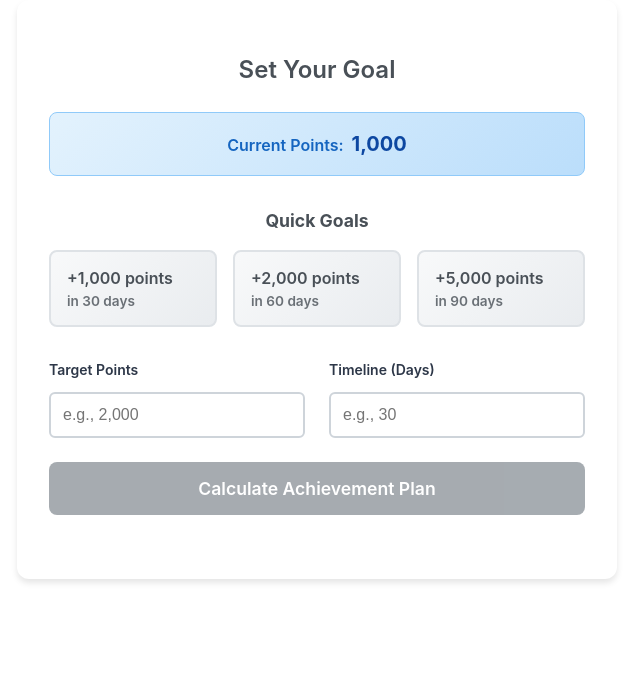
it: GoalCalculator Component › Button States › should enable submit button when both inputs have values
expect the button "Calculate Achievement Plan" is disabled: met, box [49,462,585,515]
Step 1. Type "2000" into the number field labelled "Target Points" → (177, 415), box [49,392,305,438]
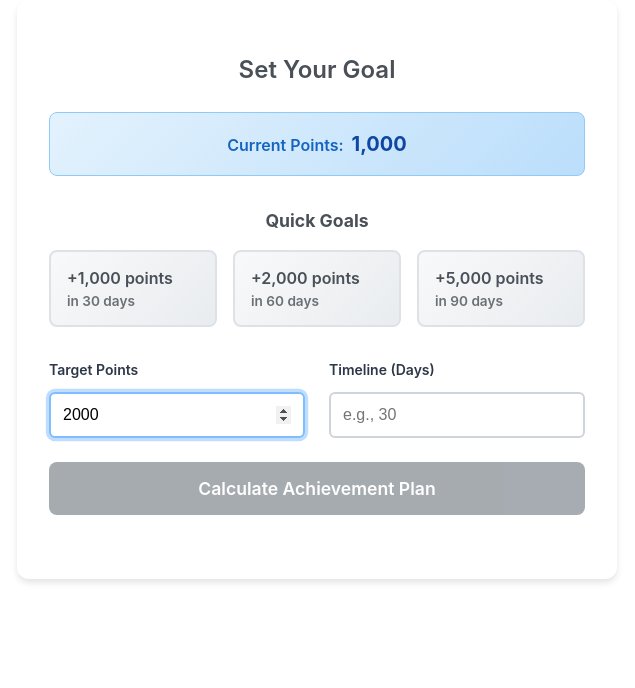
expect the button "Calculate Achievement Plan" is disabled: met, box [49,462,585,515]
Step 2. Type "30" into the number field labelled "Timeline (Days)" → (457, 415), box [329,392,585,438]
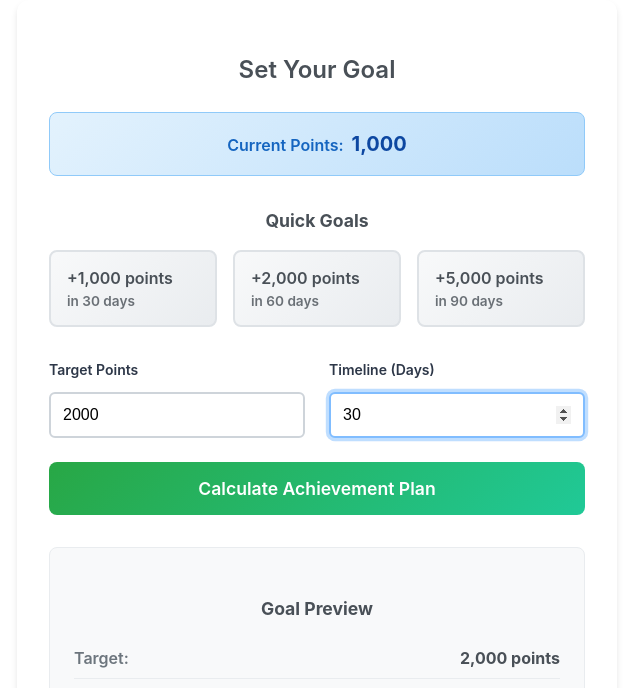
expect the button "Calculate Achievement Plan" is enabled: met, box [49,462,585,515]
